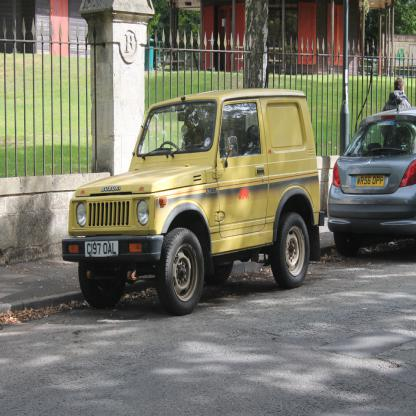Car: (61, 82, 326, 310), (326, 104, 416, 257)
